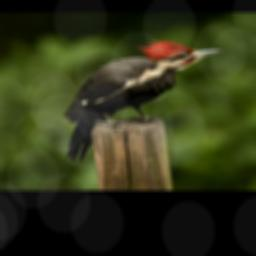Woodpecker: (49, 35, 226, 165)
